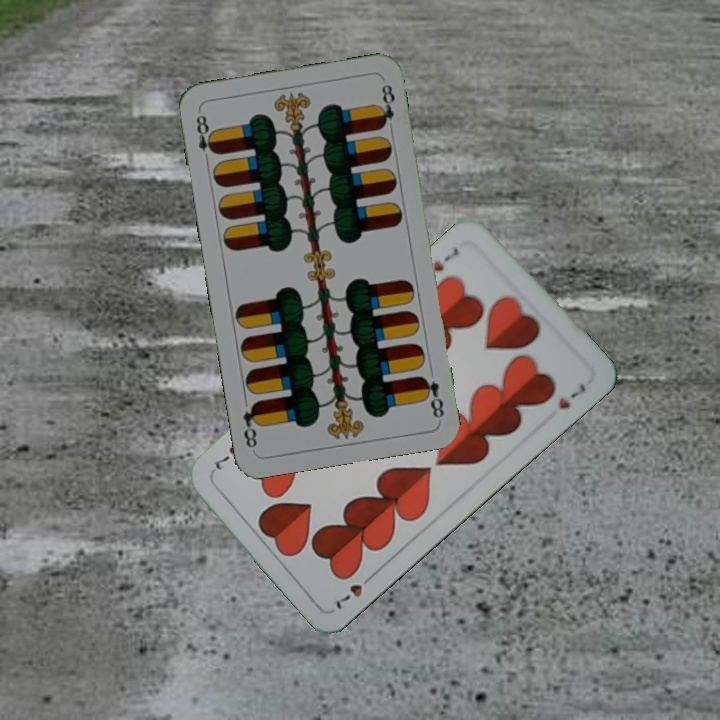E8: (192, 110, 219, 166), (417, 372, 447, 421)
H7: (328, 568, 378, 612), (428, 244, 462, 275)
